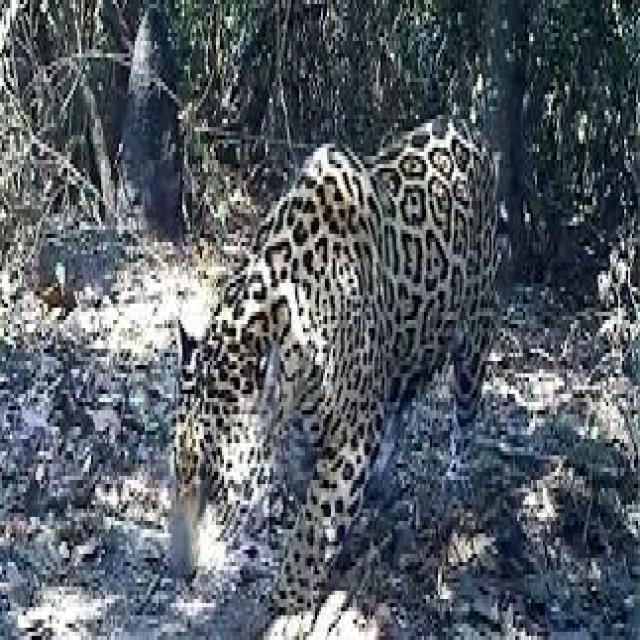Jaguar: (172, 131, 506, 607)
